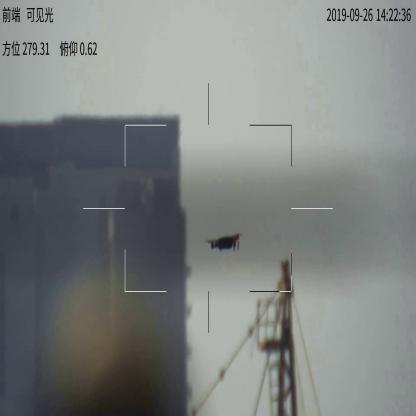uav: (207, 231, 246, 254)
